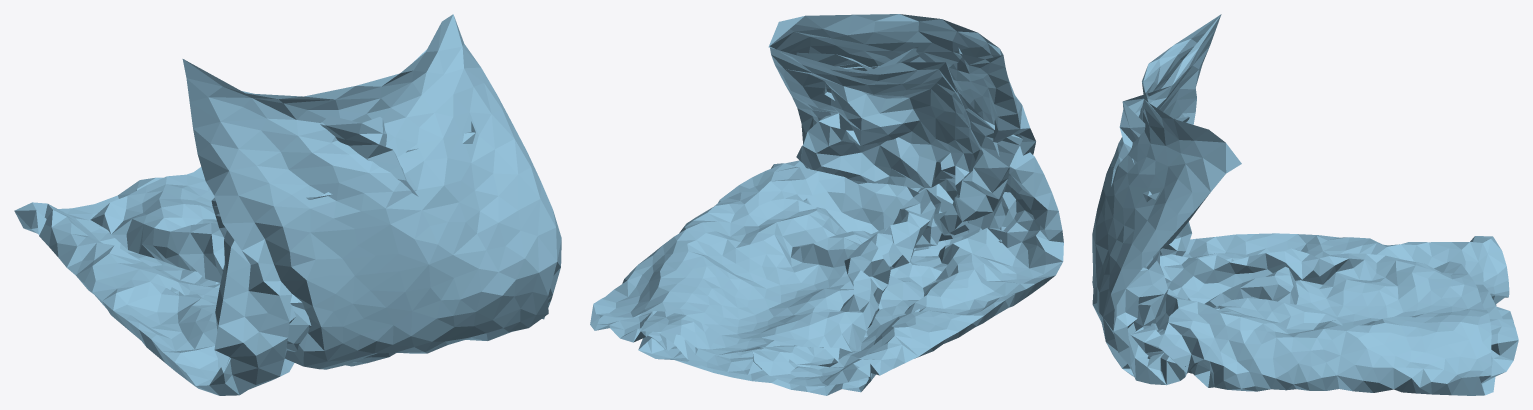
File: frame_11.glb
The picture shows the model from 3 angles, left to right: view 1: azimuth 30°, elevation 25°; view 2: azimuth 150°, elevation 25°; view 3: azimuth 270°, elevation 25°; orthographic projection. The views are drawn at different scales.
Visible parts, largest first — view 1: frame_11.obj; view 2: frame_11.obj; view 3: frame_11.obj.
Boxes of the visible parts, x1=… form: frame_11.obj: x1=14, y1=14, x2=561, y2=395; frame_11.obj: x1=590, y1=14, x2=1063, y2=395; frame_11.obj: x1=1092, y1=14, x2=1518, y2=395.
Size of the model in its own units: 0.9712 by 0.7729 by 1.17.
